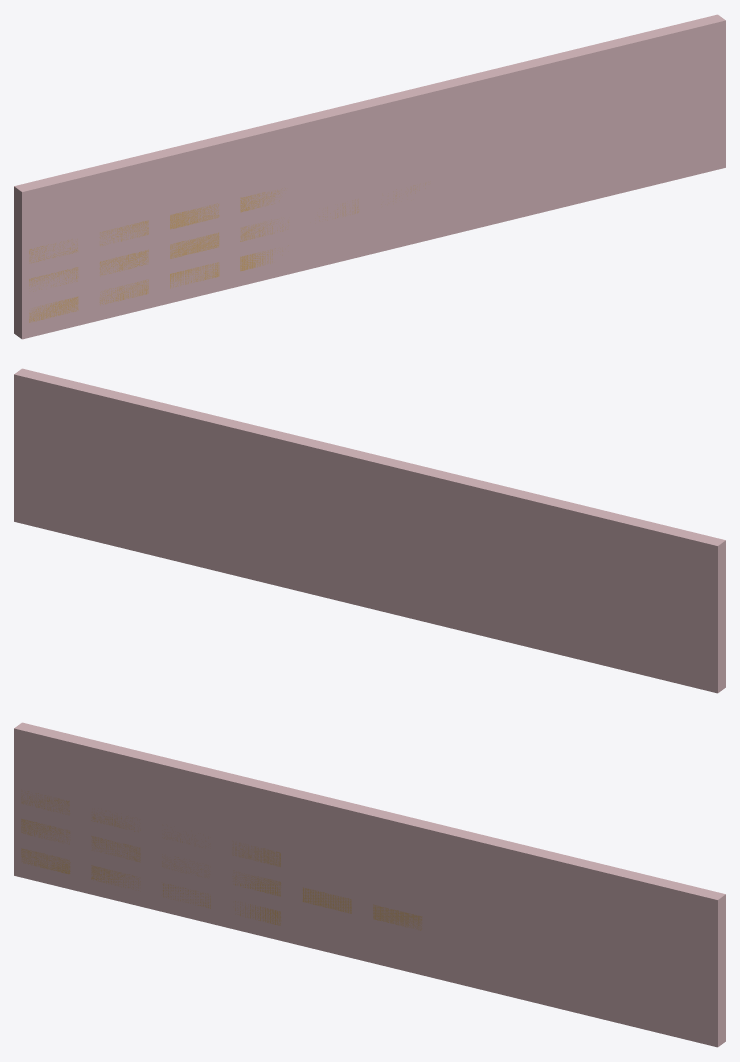
File: board.glb
The picture shows the model from 3 angles, top to bottom: view 1: azimuth 30°, elevation 25°; view 2: azimuth 150°, elevation 25°; view 3: azimuth 330°, elevation 25°; orthographic projection.
Visible parts, largest first — view 1: Substrate_Layer_0, Substrate_Layer_7, Substrate_Layer_1, Substrate_Layer_13, Substrate_Layer_3, Substrate_Layer_6, Substrate_Layer_2; view 2: Substrate_Layer_0; view 3: Substrate_Layer_0, Substrate_Layer_10, Substrate_Layer_9, Substrate_Layer_1.
Part boxes in pixels (x1=…): Substrate_Layer_0: x1=14, y1=14, x2=725, y2=339; Substrate_Layer_7: x1=170, y1=232, x2=219, y2=258; Substrate_Layer_1: x1=29, y1=296, x2=78, y2=322; Substrate_Layer_13: x1=170, y1=203, x2=219, y2=229; Substrate_Layer_3: x1=170, y1=262, x2=219, y2=288; Substrate_Layer_6: x1=99, y1=249, x2=148, y2=276; Substrate_Layer_2: x1=99, y1=279, x2=148, y2=305; Substrate_Layer_0: x1=14, y1=368, x2=725, y2=693; Substrate_Layer_0: x1=14, y1=722, x2=725, y2=1047; Substrate_Layer_10: x1=373, y1=904, x2=422, y2=930; Substrate_Layer_9: x1=302, y1=887, x2=351, y2=913; Substrate_Layer_1: x1=21, y1=848, x2=70, y2=874.
Size of the model in its own units: 0.1 by 0.02 by 0.002.
